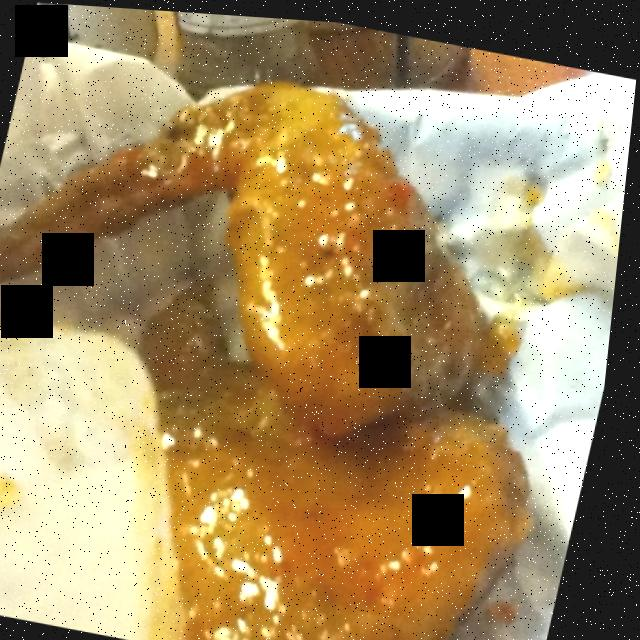Frango: (0, 10, 518, 446)
